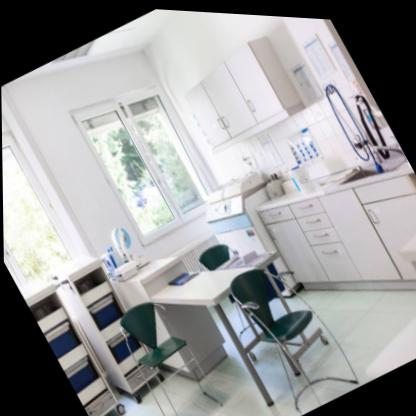Cabinet: (256, 168, 416, 286), (181, 30, 306, 153)
Window: (66, 83, 214, 246)
